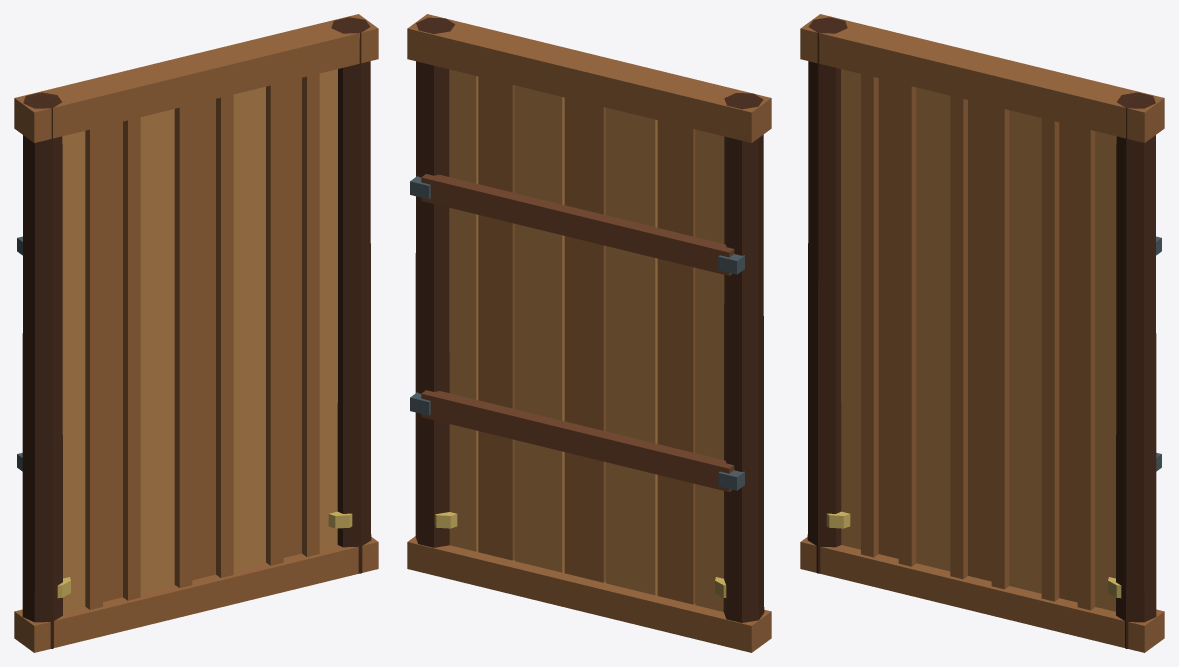
The model's file is wall_wood.glb.
3 renders of one model, left to right at view 1: azimuth 30°, elevation 25°; view 2: azimuth 150°, elevation 25°; view 3: azimuth 330°, elevation 25°, orthographic.
Parts seen in each view (by area): view 1: Post_0.001, Top_Plate.001, Board_2.001, Post_1.001, Board_4.001, Sill, Board_3.001, Board_0.001, Board_1.001, Batten_2, Board_5.001, Board_6 (+5 smaller); view 2: Board_2.001, Board_4.001, Post_0.001, Board_3.001, Top_Plate.001, Board_1.001, Board_5.001, Post_1.001, Board_6, Sill, Board_0.001, Rail_1.001 (+1 smaller); view 3: Post_1.001, Top_Plate.001, Board_2.001, Post_0.001, Board_4.001, Sill, Board_3.001, Board_6, Board_1.001, Board_0.001, Batten_1, Batten_5 (+5 smaller).
Boxes of the visible parts, x1,y1,x2,y2 form: Post_0.001: [22, 92, 62, 648]; Top_Plate.001: [14, 14, 378, 142]; Board_2.001: [140, 109, 174, 592]; Post_1.001: [331, 17, 371, 573]; Board_4.001: [233, 86, 265, 569]; Sill: [14, 537, 378, 652]; Board_3.001: [192, 99, 215, 580]; Board_0.001: [62, 131, 85, 611]; Board_1.001: [103, 121, 122, 601]; Batten_2: [174, 104, 192, 587]; Board_5.001: [283, 78, 301, 557]; Board_6: [319, 69, 337, 548]; Board_2.001: [606, 107, 657, 595]; Board_4.001: [514, 85, 564, 572]; Post_0.001: [723, 93, 764, 622]; Board_3.001: [564, 97, 605, 582]; Top_Plate.001: [407, 14, 771, 142]; Board_1.001: [657, 120, 695, 604]; Board_5.001: [478, 76, 514, 560]; Post_1.001: [415, 17, 454, 547]; Board_6: [449, 69, 478, 551]; Sill: [407, 536, 771, 652]; Board_0.001: [695, 129, 724, 611]; Rail_1.001: [421, 174, 734, 275]; Post_1.001: [1116, 92, 1156, 648]; Top_Plate.001: [800, 14, 1164, 142]; Board_2.001: [916, 87, 950, 571]; Post_0.001: [807, 17, 847, 573]; Board_4.001: [1009, 110, 1041, 593]; Sill: [800, 537, 1164, 652]; Board_3.001: [968, 100, 991, 581]; Board_6: [1095, 131, 1116, 611]; Board_1.001: [878, 78, 898, 558]; Board_0.001: [841, 69, 860, 549]; Batten_1: [898, 83, 916, 566]; Batten_5: [1077, 127, 1095, 610].
Size of the model in its own units: 2 by 3 by 0.265.
